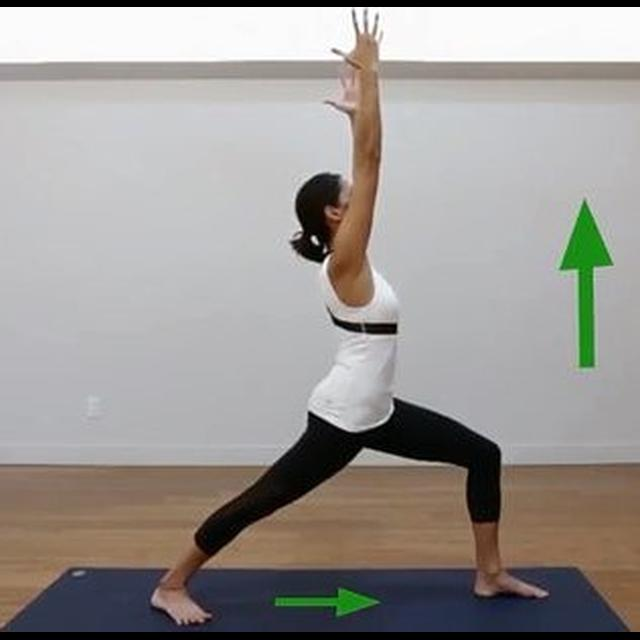Warrior_I: (139, 7, 557, 620)
